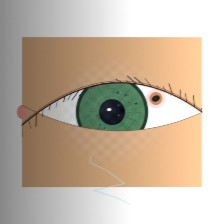foreign_body_visible: (136, 82, 176, 115)
